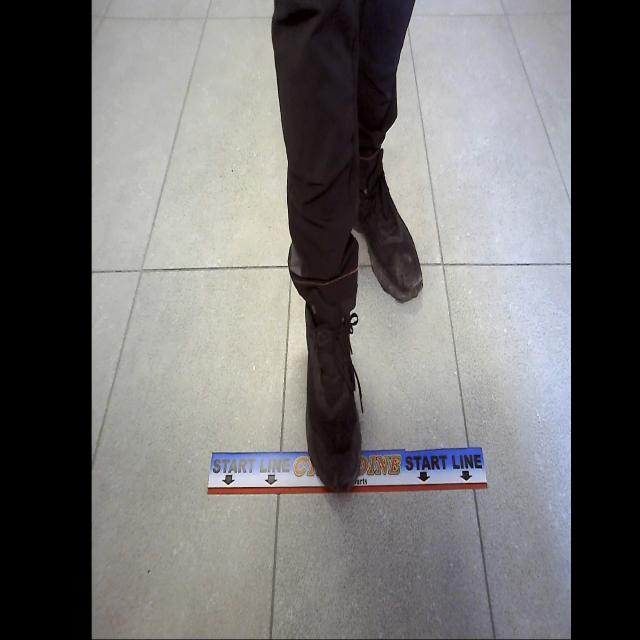foot: (304, 292, 365, 497), (354, 147, 423, 303)
